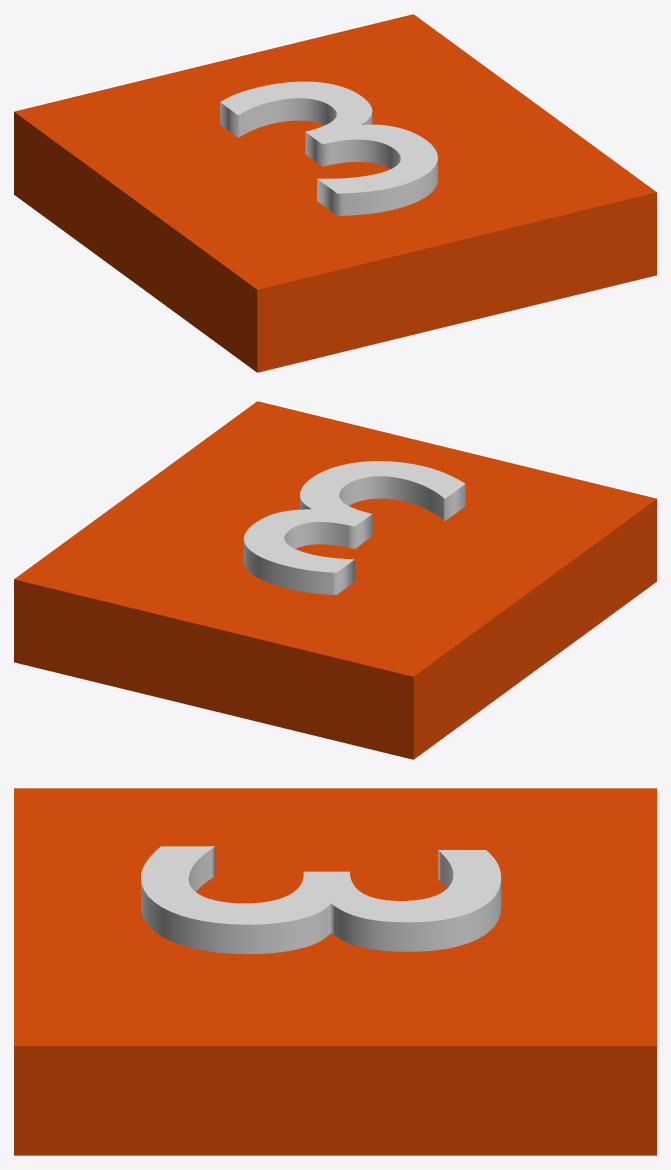
3 renders of one model, top to bottom at view 1: azimuth 30°, elevation 25°; view 2: azimuth 150°, elevation 25°; view 3: azimuth 270°, elevation 25°, orthographic. The views are drawn at different scales.
Visible parts, largest first — view 1: Куб, Текст; view 2: Куб, Текст; view 3: Куб, Текст.
Part boxes in pixels (x1,y1,x2,y2): Куб: (14,14,656,372); Текст: (220,81,437,215); Куб: (14,401,656,759); Текст: (243,461,465,594); Куб: (14,788,656,1155); Текст: (141,846,501,954).
Size of the model in its own units: 118 by 29.82 by 125.
